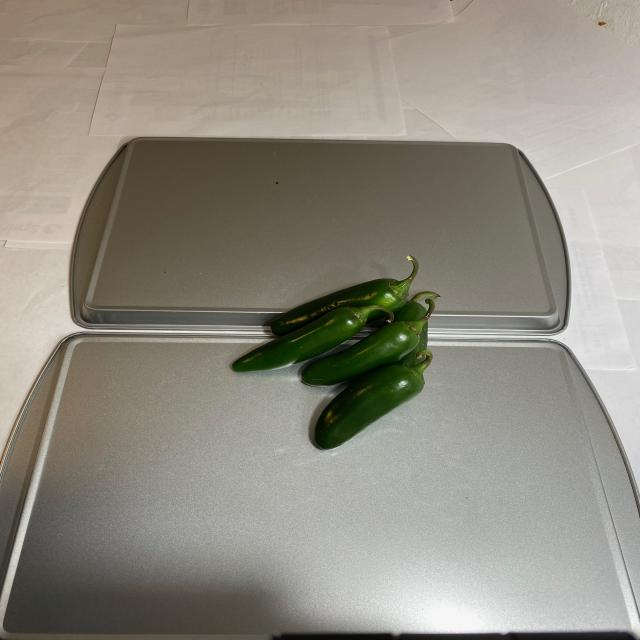chilli: (227, 248, 446, 453)
